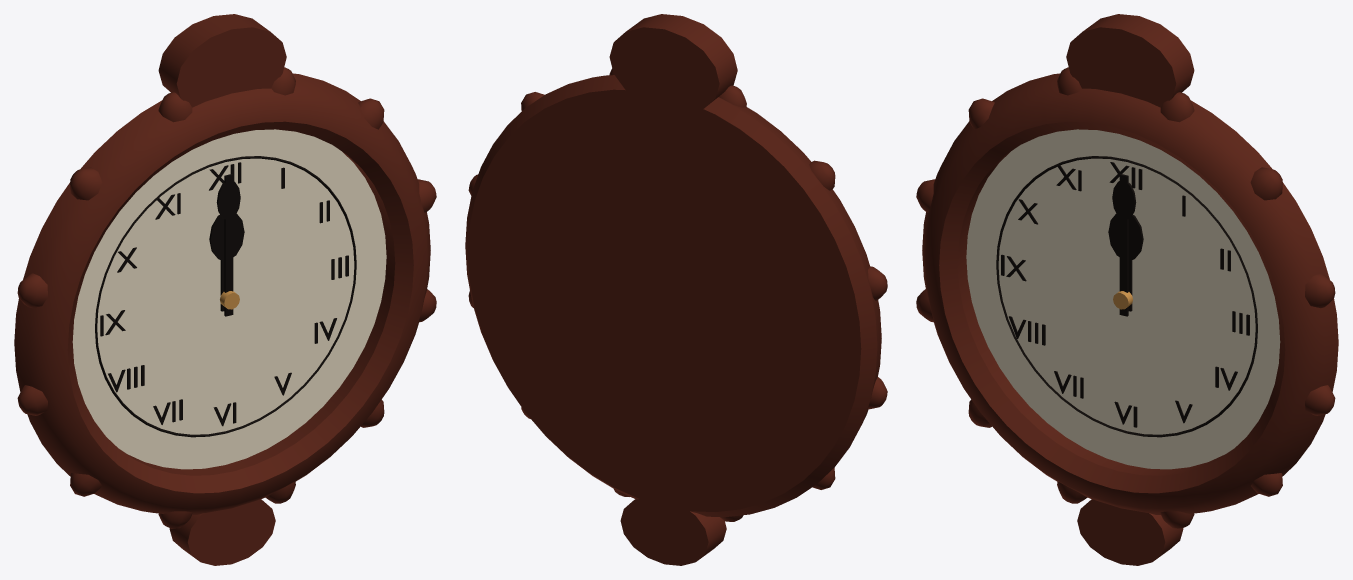
The model's file is WallClock.glb.
The picture shows the model from 3 angles, left to right: view 1: azimuth 30°, elevation 25°; view 2: azimuth 150°, elevation 25°; view 3: azimuth 330°, elevation 25°; orthographic projection.
Parts seen in each view (by area): view 1: WallClock_Face, WallClock_Body, WallClock_Numerals, WallClock_MinuteHand, WallClock_HourHand; view 2: WallClock_Body; view 3: WallClock_Face, WallClock_Body, WallClock_Numerals, WallClock_MinuteHand, WallClock_HourHand.
Part boxes in pixels (x1,y1,x2,y2): WallClock_Face: [72, 129, 386, 469]; WallClock_Body: [14, 14, 436, 565]; WallClock_Numerals: [95, 156, 356, 437]; WallClock_MinuteHand: [216, 174, 240, 316]; WallClock_HourHand: [209, 213, 244, 311]; WallClock_Body: [465, 14, 887, 565]; WallClock_Face: [966, 129, 1280, 469]; WallClock_Body: [916, 14, 1338, 565]; WallClock_Numerals: [996, 156, 1257, 437]; WallClock_MinuteHand: [1112, 174, 1136, 316]; WallClock_HourHand: [1108, 213, 1143, 311].
Bounding box in the file's own units: 0.5286 × 0.65 × 0.06.
